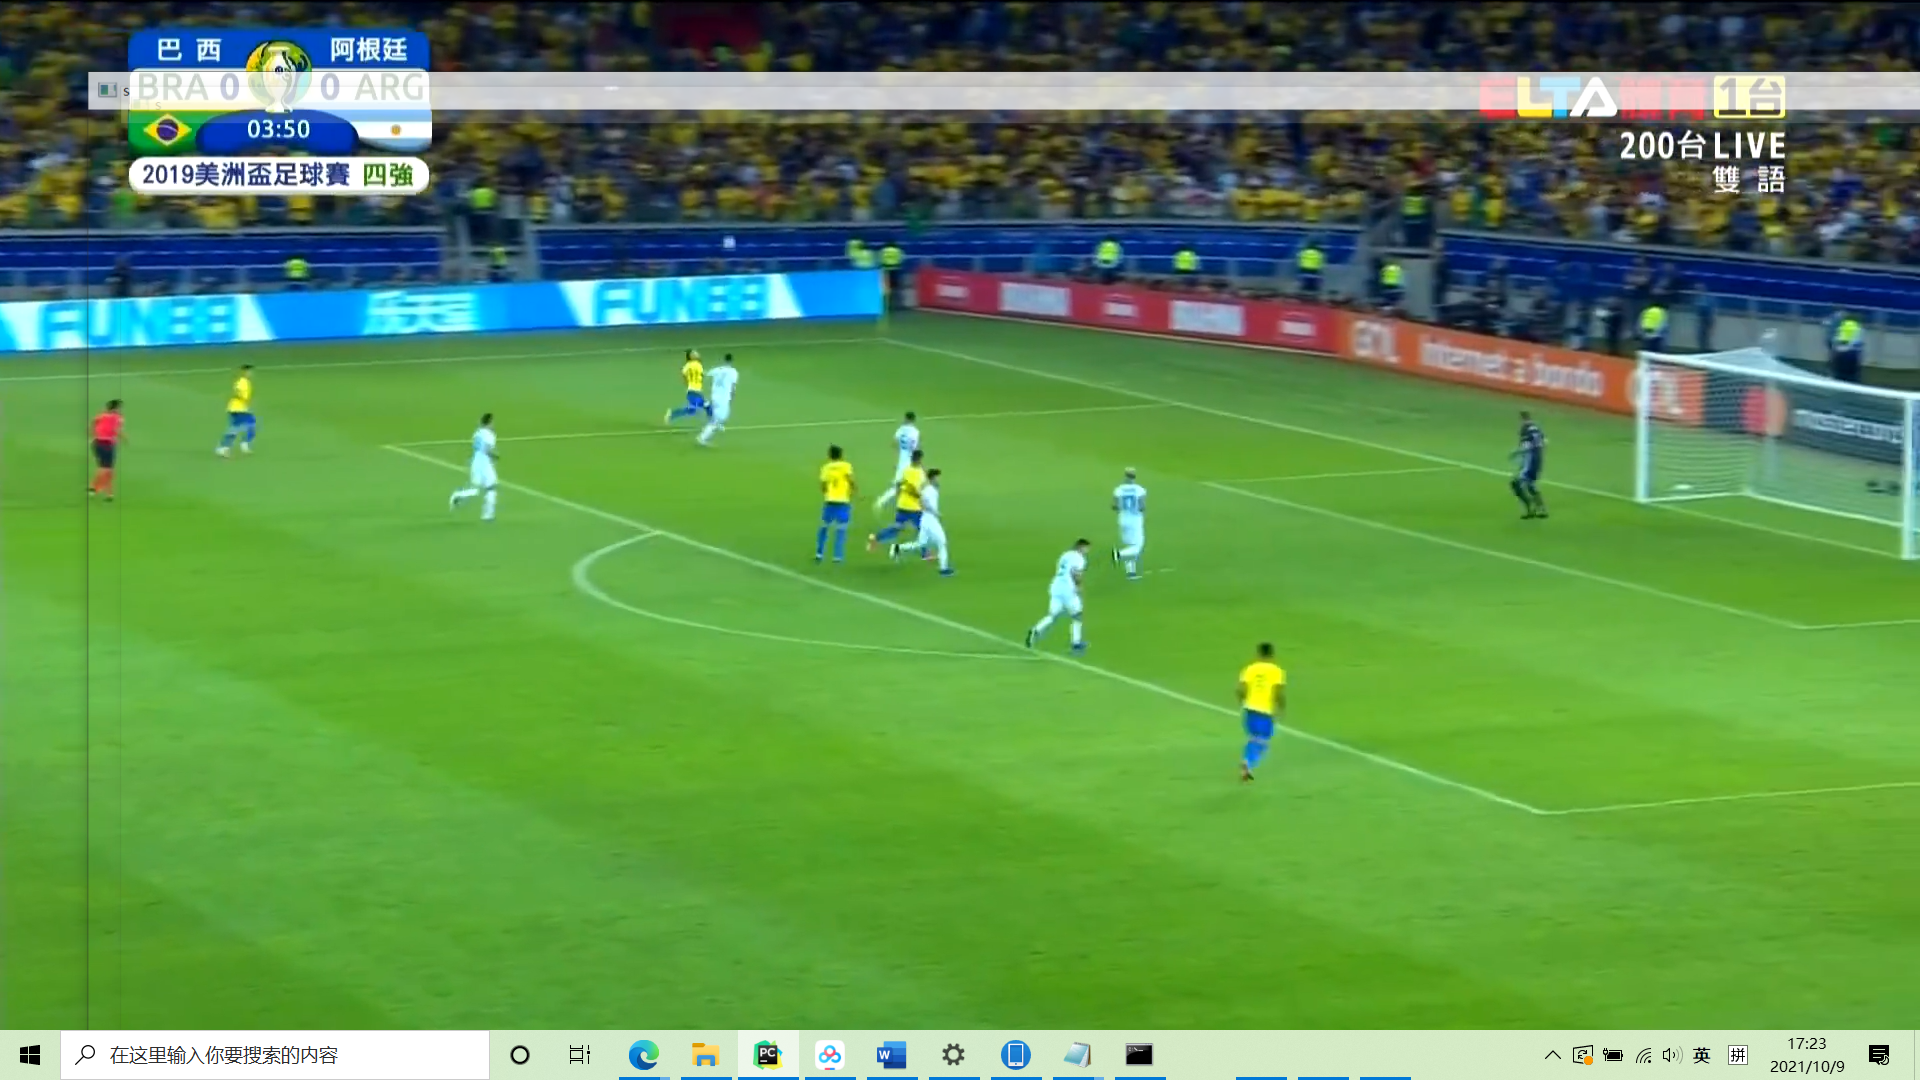ft: (721, 235, 736, 251)
